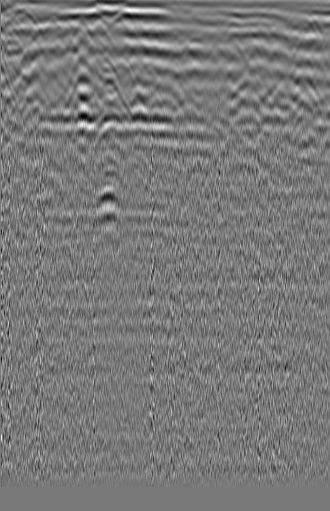가스: (90, 180, 125, 224)
상수: (6, 6, 39, 34)
오수: (302, 16, 322, 36)
우수: (140, 20, 160, 40)
